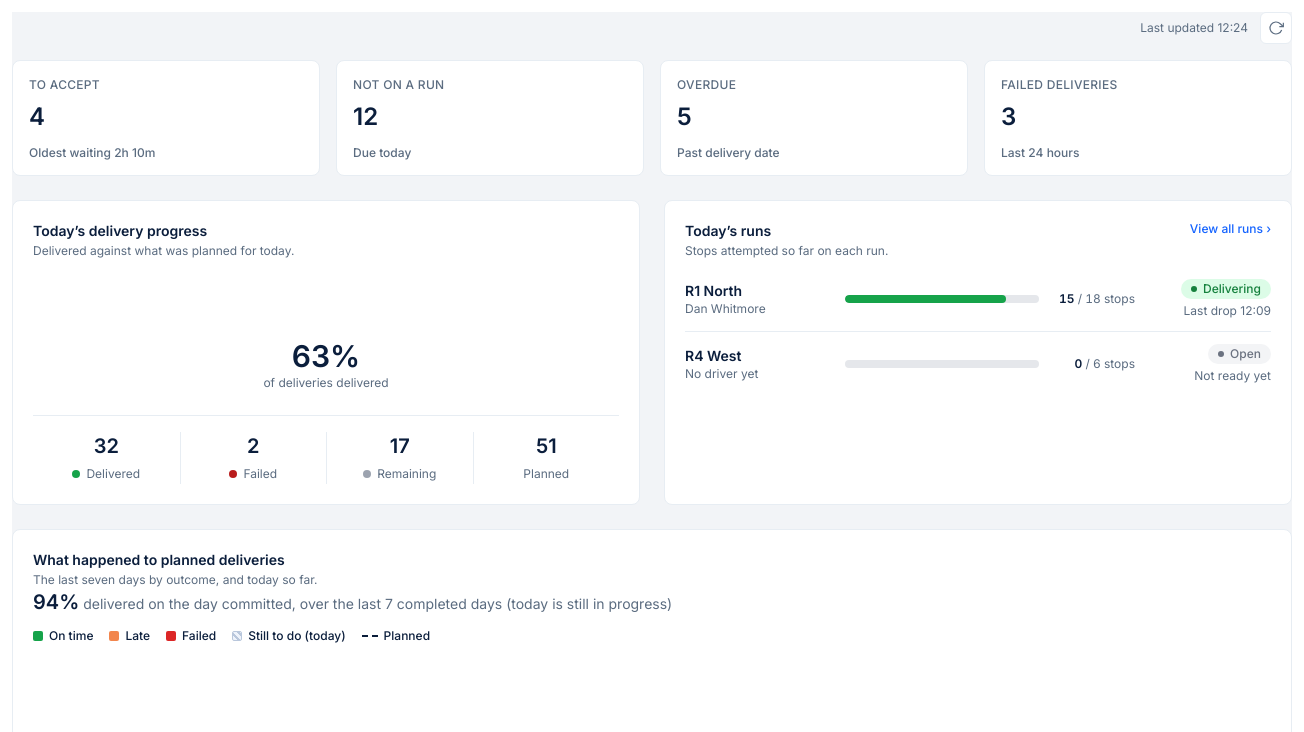
DeliveryDashboard › keeps showing the last snapshot, and says so, when a refresh fails
The width and height of the screenshot is (1304, 732).
Expected: the text "R1 North" is shown, [685,282,742,299]
Click the button named "Refresh": (1276, 28) [1260,12,1292,44]
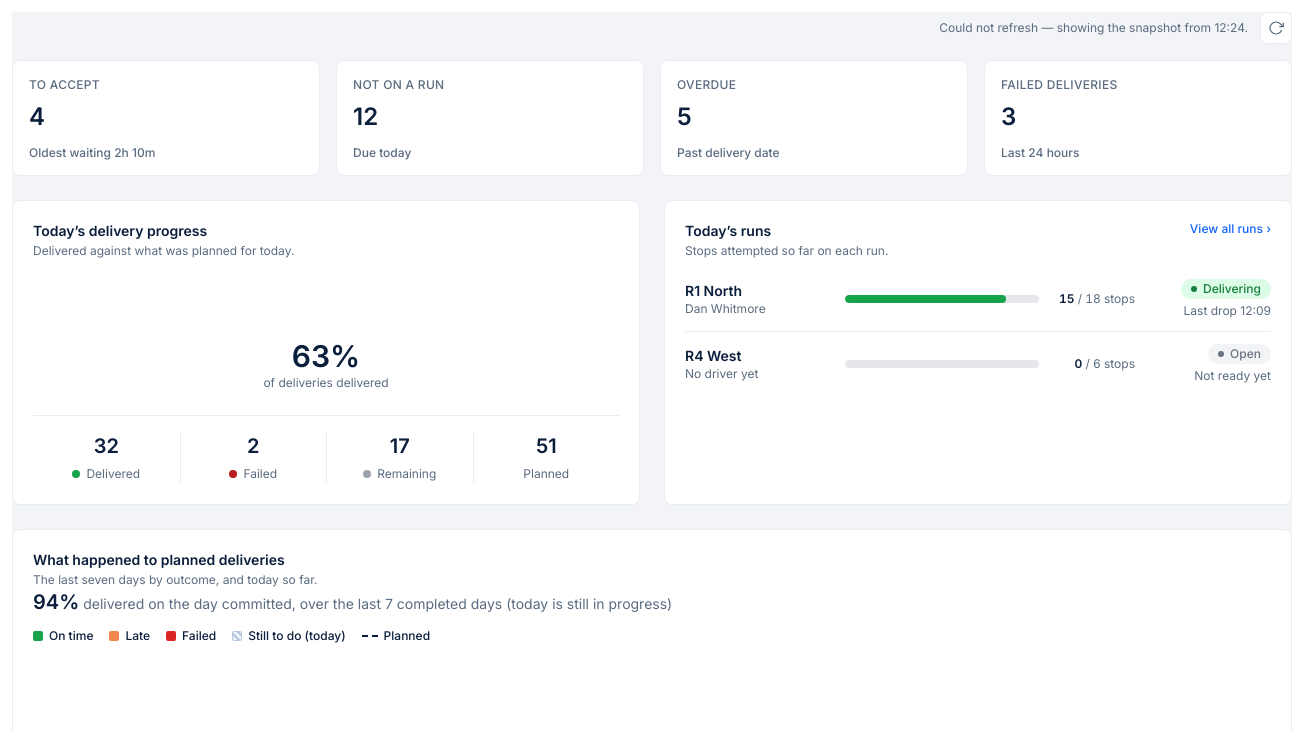
Expected: the text "R1 North" is shown, [685,282,742,299]
Expected: the text "Could not refresh — showing the snapshot from 12:24." is shown, [939,20,1248,36]
